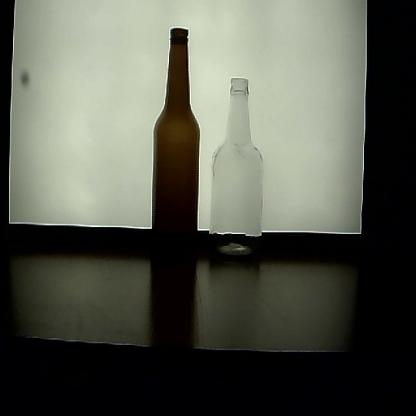Can: (149, 26, 203, 272), (208, 77, 265, 268)
